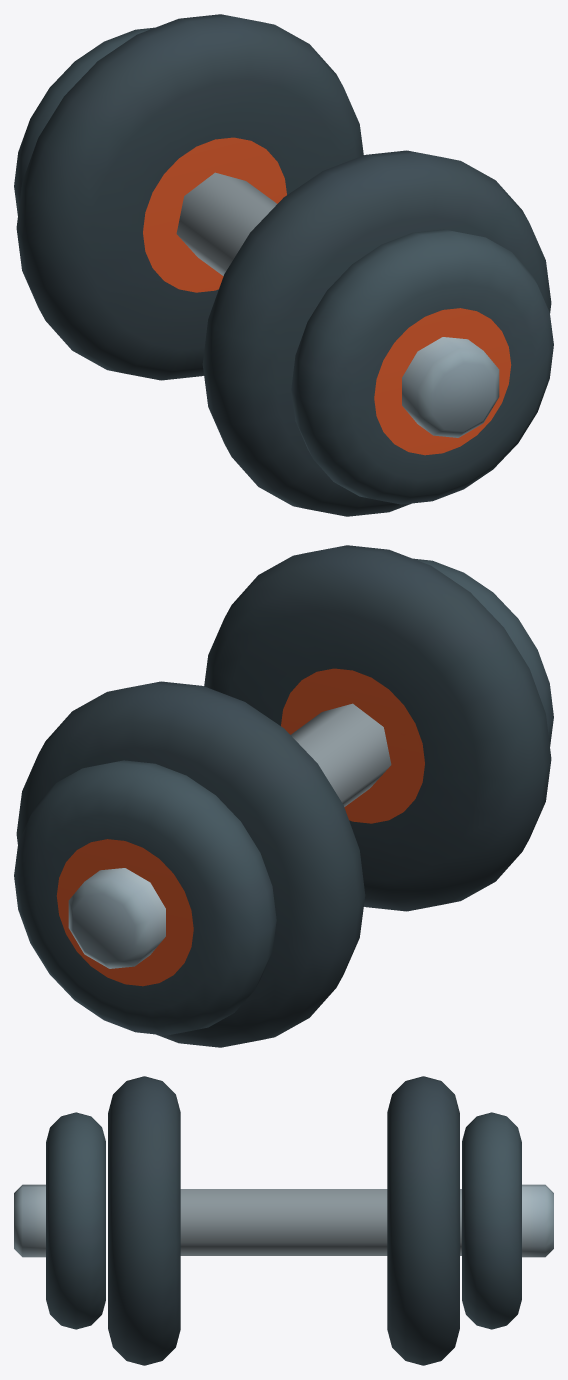
The model's file is Dumbbell_02.glb.
The picture shows the model from 3 angles, top to bottom: view 1: azimuth 30°, elevation 25°; view 2: azimuth 150°, elevation 25°; view 3: azimuth 270°, elevation 25°; orthographic projection. The views are drawn at different scales.
Visible parts, largest first — view 1: Dumbbell_02; view 2: Dumbbell_02; view 3: Dumbbell_02.
Part boxes in pixels (left/top/right/bottom): Dumbbell_02: left=14, top=14, right=553, bottom=516; Dumbbell_02: left=14, top=545, right=553, bottom=1047; Dumbbell_02: left=14, top=1076, right=553, bottom=1365.
Size of the model in its own units: 0.2192 by 0.2192 by 0.407.
1 material, 1 textured.
